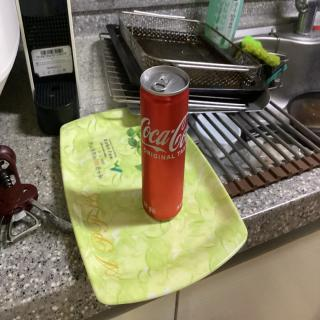cocacola: (138, 64, 191, 221)
